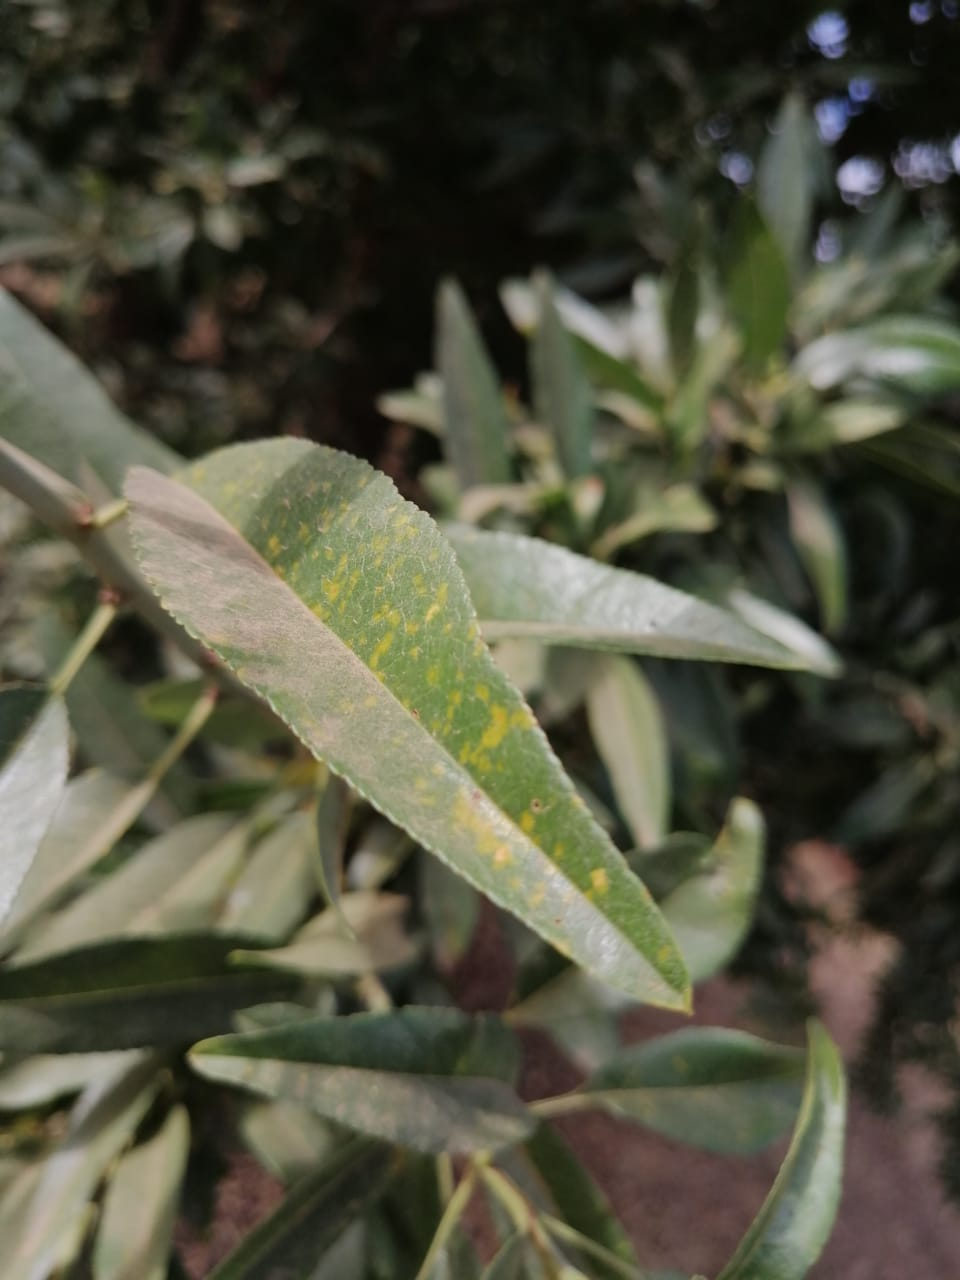rouille: (122, 431, 694, 1014)
